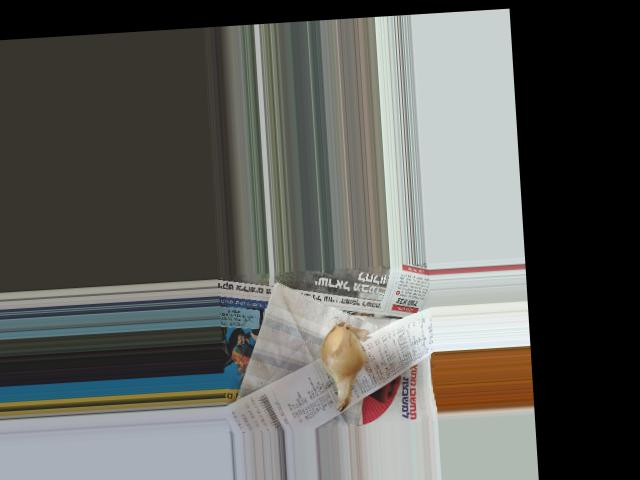onion: (318, 329, 367, 385)
